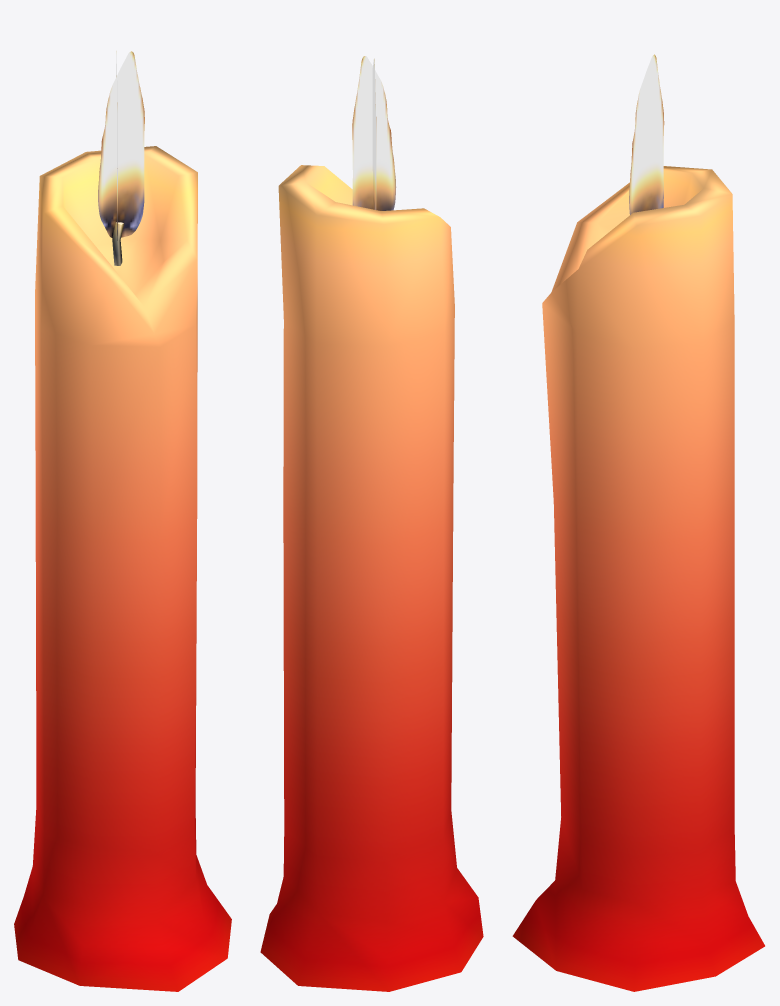
File: CandleShapeA.017.glb
The picture shows the model from 3 angles, left to right: view 1: azimuth 30°, elevation 25°; view 2: azimuth 150°, elevation 25°; view 3: azimuth 270°, elevation 25°; orthographic projection.
Visible parts, largest first — view 1: CandleShapeA.017; view 2: CandleShapeA.017; view 3: CandleShapeA.017.
Part boxes in pixels (<box>): CandleShapeA.017: <box>14,51,231,991</box>; CandleShapeA.017: <box>260,56,483,991</box>; CandleShapeA.017: <box>512,54,764,991</box>.
Bounding box in the file's own units: 0.0814 × 0.3472 × 0.0887.
2 materials, 2 textured.
